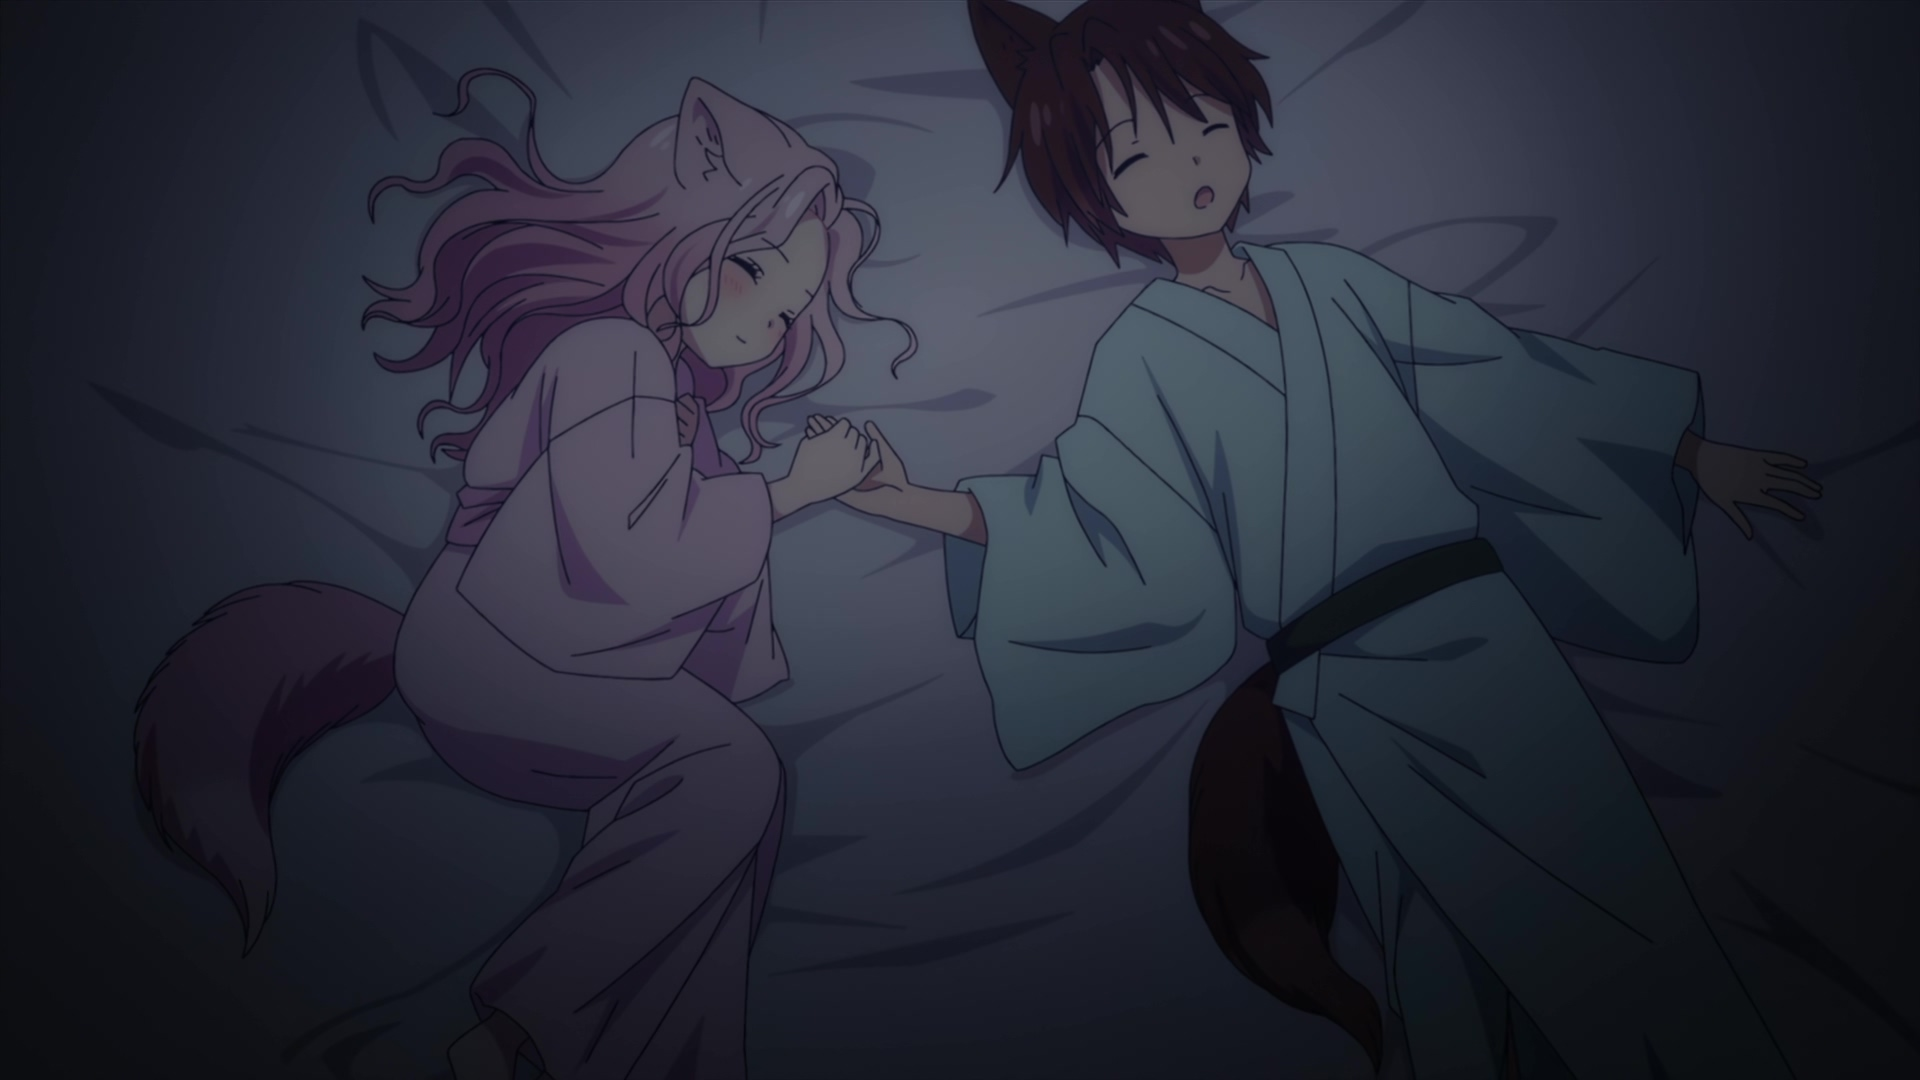枣: (811, 1, 1822, 1080)
莲: (142, 61, 919, 1080)
